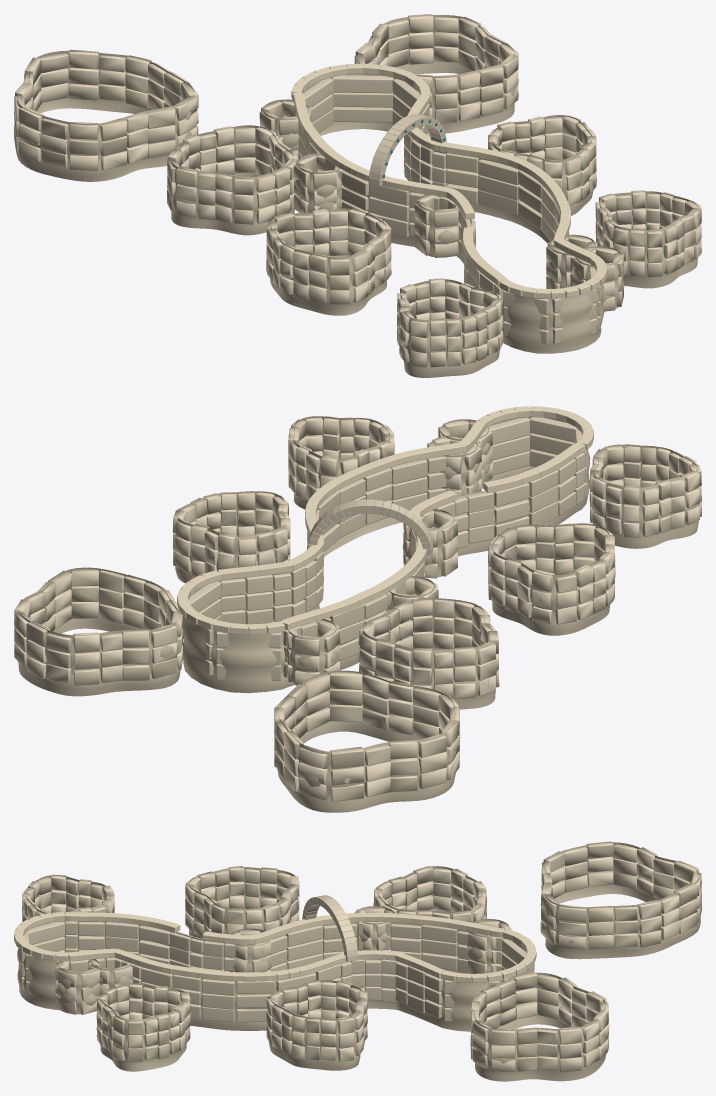
The model's file is oasis-course-3-mobile-lod-v1-d03b8e3b89.glb.
3 renders of one model, top to bottom at view 1: azimuth 30°, elevation 25°; view 2: azimuth 150°, elevation 25°; view 3: azimuth 270°, elevation 25°, orthographic. The views are drawn at different scales.
Visible parts, largest first — view 1: Oasis artisan masonry; view 2: Oasis artisan masonry; view 3: Oasis artisan masonry.
Boxes of the visible parts, x1,y1,x2,y2 form: Oasis artisan masonry: (14,14,701,377); Oasis artisan masonry: (14,406,701,812); Oasis artisan masonry: (14,841,701,1081).
Size of the model in its own units: 17.73 by 4.07 by 27.03.
